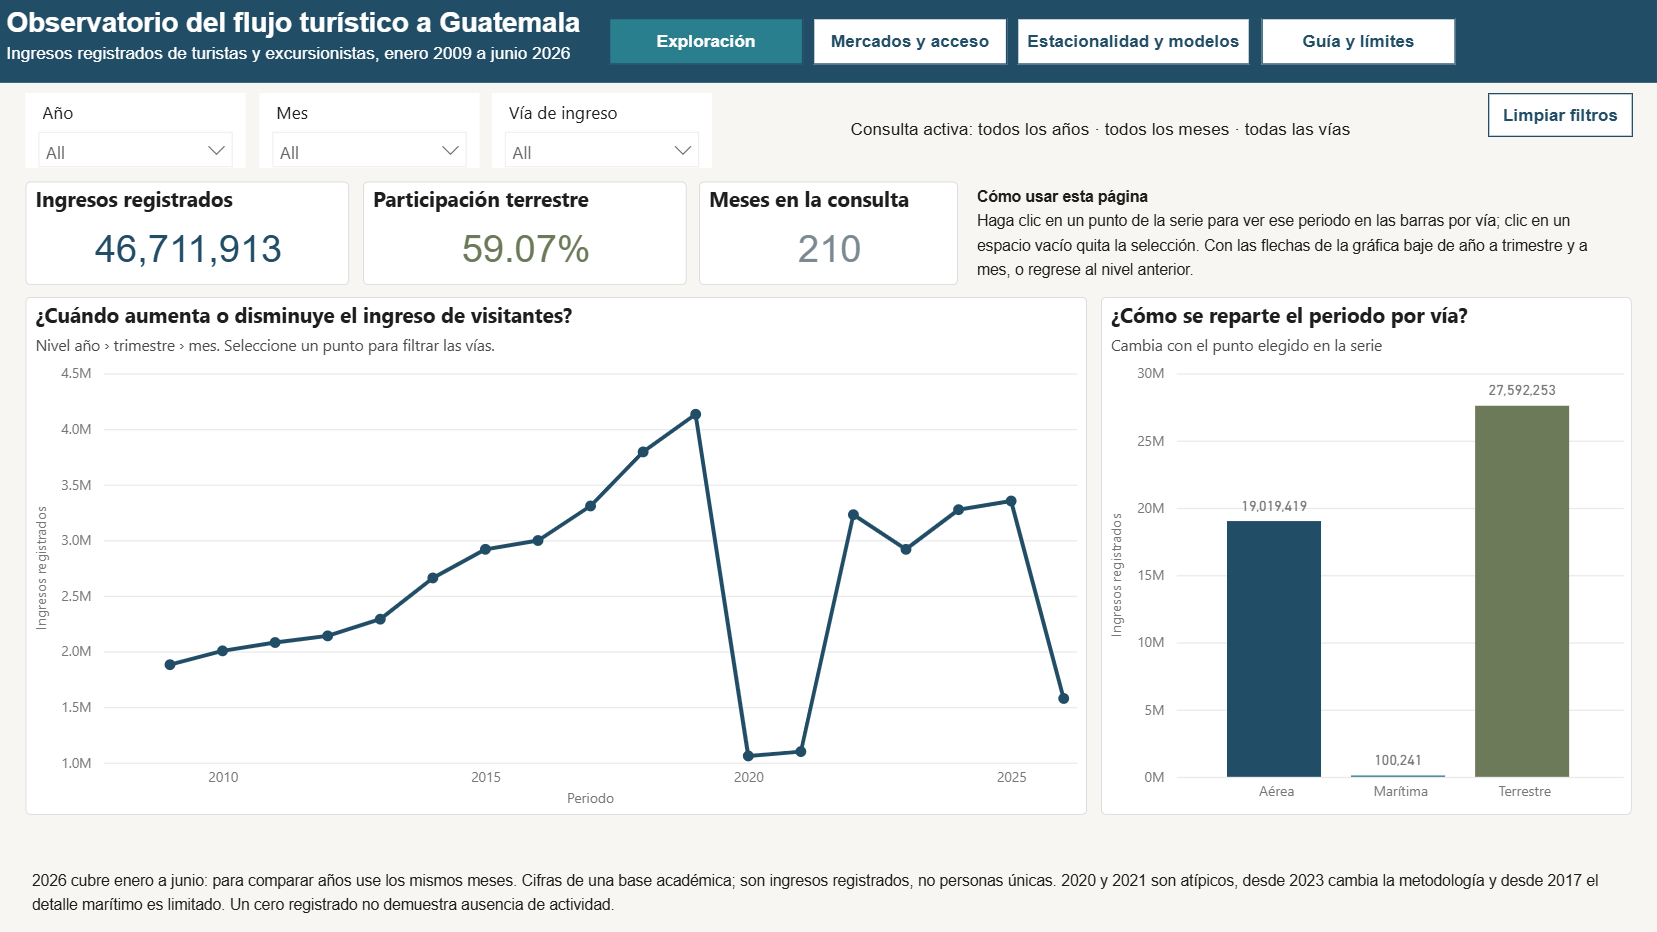

This screenshot's page, from the dashboard's own definition file:
{"tool":"powerbi","page":{"name":"Exploración","canvas":[1280,800],"ordinal":0},"visuals":[{"type":"textbox","box":[28,12,1224,45],"z":0},{"type":"textbox","box":[28,62,1224,65],"z":0},{"type":"slicer","title":"Año","fields":{"Values":["Calendario.anio"]},"box":[28,140,360,100],"z":0},{"type":"slicer","title":"Mes del año","fields":{"Values":["Calendario.mes"]},"box":[416,140,360,100],"z":0},{"type":"slicer","title":"Vía de ingreso","fields":{"Values":["Flujo.via"]},"box":[804,140,448,100],"z":0},{"type":"card","title":"Ingresos de visitantes","fields":{"Values":["Flujo.Ingresos"]},"box":[28,250,360,90],"z":0},{"type":"card","title":"Participación terrestre","fields":{"Values":["Flujo.Participacion terrestre"]},"box":[416,250,360,90],"z":0},{"type":"lineChart","title":"¿Cuándo aumenta el ingreso de visitantes?","fields":{"Category":["Calendario.fecha"],"Y":["Flujo.Ingresos"]},"box":[28,360,760,330],"z":0},{"type":"clusteredBarChart","title":"¿Cómo se reparte por vía?","fields":{"Category":["Flujo.via"],"Y":["Flujo.Ingresos"]},"box":[812,360,440,330],"z":0},{"type":"textbox","box":[28,705,1224,75],"z":0}]}

Visuals, with their boxes on the page's 1280x800 design canvas (x1, y1, x2, y2). These are canvas units, not pixel positions in the 1657x932 screenshot, which may show the page scaled, cropped or inside an application window:
textbox: {"x1": 28, "y1": 12, "x2": 1252, "y2": 57}
textbox: {"x1": 28, "y1": 62, "x2": 1252, "y2": 127}
"Año" slicer: {"x1": 28, "y1": 140, "x2": 388, "y2": 240}
"Mes del año" slicer: {"x1": 416, "y1": 140, "x2": 776, "y2": 240}
"Vía de ingreso" slicer: {"x1": 804, "y1": 140, "x2": 1252, "y2": 240}
"Ingresos de visitantes" card: {"x1": 28, "y1": 250, "x2": 388, "y2": 340}
"Participación terrestre" card: {"x1": 416, "y1": 250, "x2": 776, "y2": 340}
"¿Cuándo aumenta el ingreso de visitantes?" lineChart: {"x1": 28, "y1": 360, "x2": 788, "y2": 690}
"¿Cómo se reparte por vía?" clusteredBarChart: {"x1": 812, "y1": 360, "x2": 1252, "y2": 690}
textbox: {"x1": 28, "y1": 705, "x2": 1252, "y2": 780}
